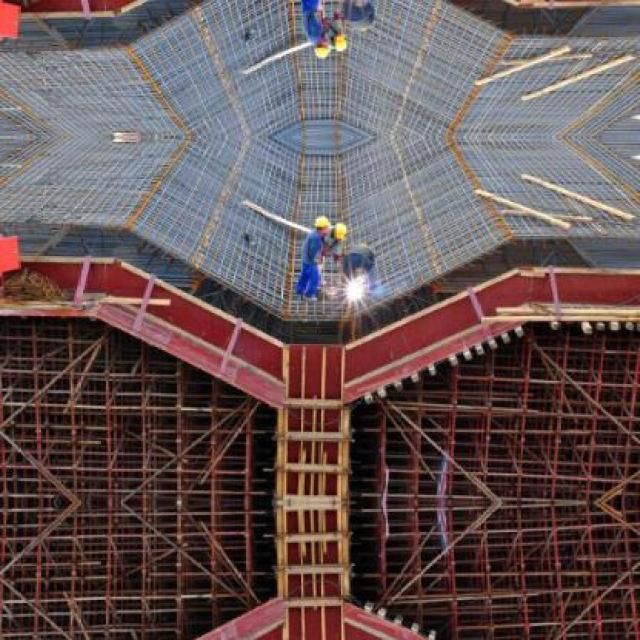helmet: (328, 218, 348, 244), (328, 30, 348, 56), (313, 213, 330, 236), (313, 38, 330, 61)
